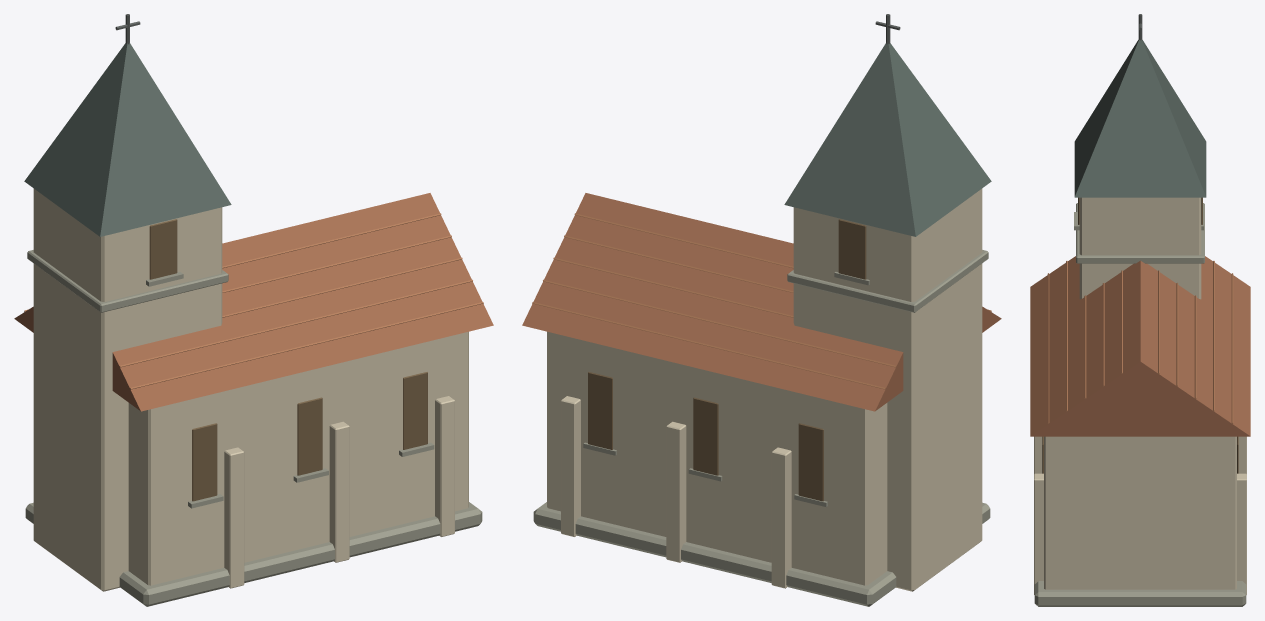
Rendered from church.glb.
The picture shows the model from 3 angles, left to right: view 1: azimuth 30°, elevation 25°; view 2: azimuth 150°, elevation 25°; view 3: azimuth 270°, elevation 25°; orthographic projection. The views are drawn at different scales.
Visible parts, largest first — view 1: church_plaster, church_roof, church_slate, church_stone, church_oak_dark, church_roof_light; view 2: church_plaster, church_roof, church_slate, church_stone, church_oak_dark, church_roof_light; view 3: church_plaster, church_roof, church_slate, church_stone, church_roof_light.
Boxes of the visible parts, box(x1,y1,x2,y2) form: church_plaster: box(33, 188, 468, 591); church_roof: box(14, 193, 493, 411); church_slate: box(24, 43, 231, 236); church_stone: box(25, 250, 482, 606); church_oak_dark: box(149, 219, 427, 501); church_roof_light: box(24, 213, 483, 389); church_plaster: box(547, 188, 982, 591); church_roof: box(522, 193, 1001, 411); church_slate: box(784, 43, 991, 236); church_stone: box(533, 250, 990, 606); church_oak_dark: box(588, 219, 866, 501); church_roof_light: box(532, 213, 991, 389); church_plaster: box(1034, 197, 1246, 594); church_roof: box(1030, 256, 1250, 436); church_slate: box(1074, 39, 1206, 197); church_stone: box(1034, 203, 1246, 606); church_roof_light: box(1047, 261, 1233, 423).
Bounding box in the file's own units: 8.04 × 11.25 × 4.8.
